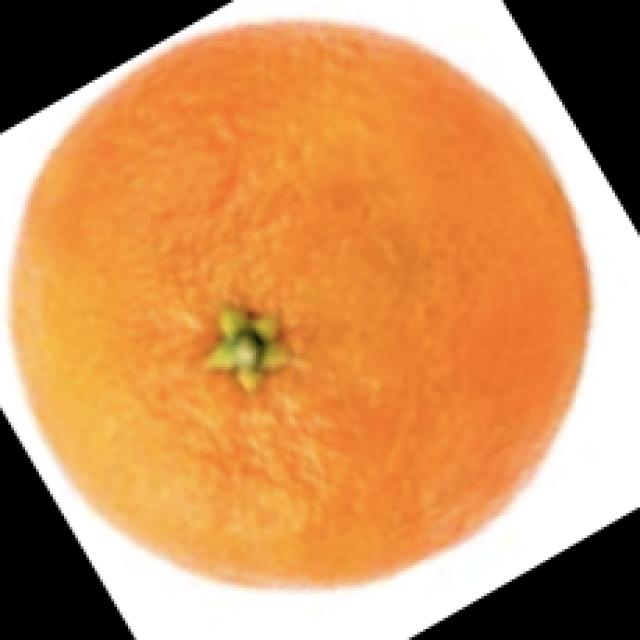orange: (3, 0, 604, 571)
